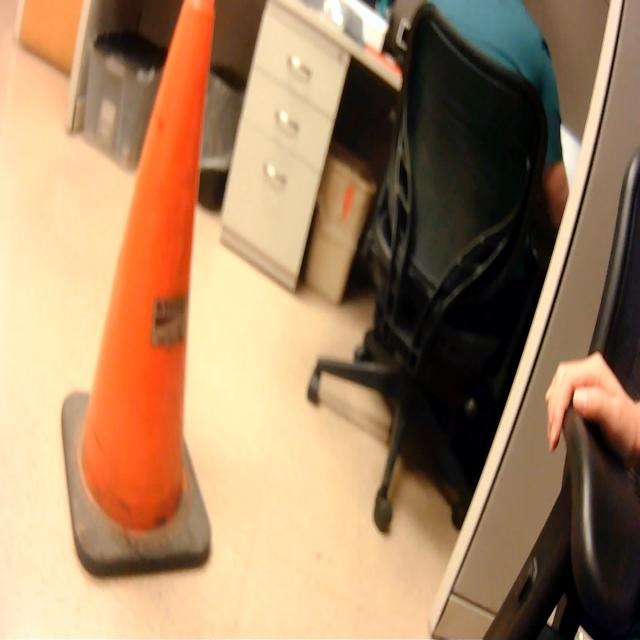traffic cone: (57, 1, 228, 585)
